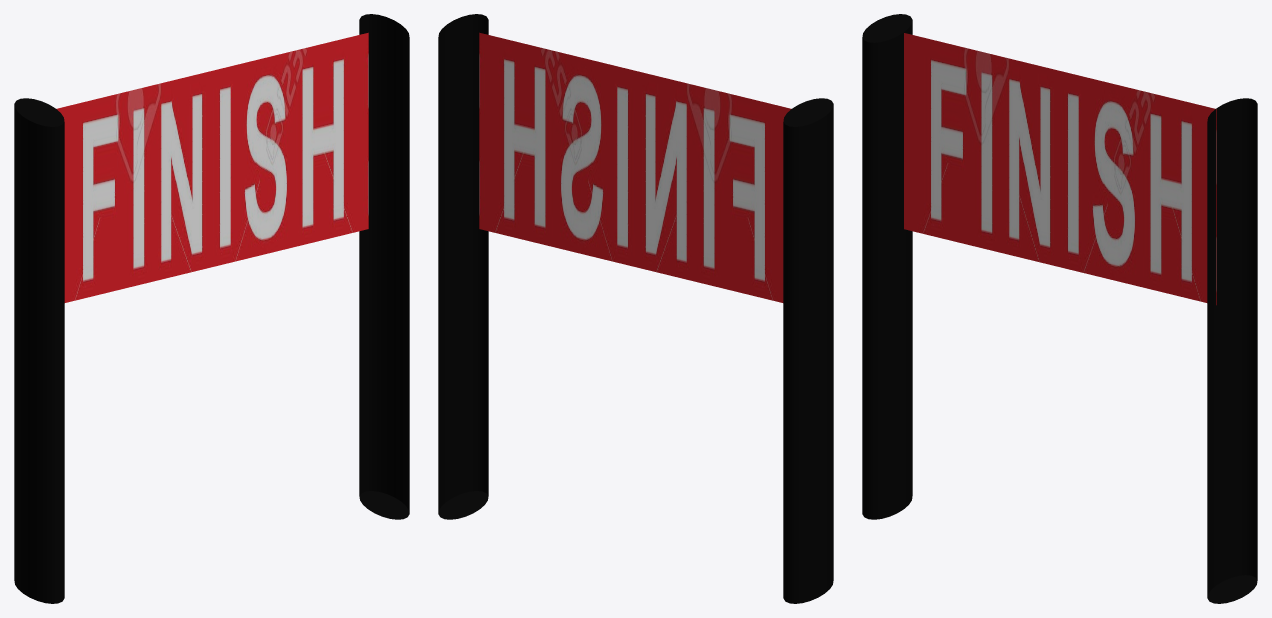
File: finish.fbx
3 views of the same model, side by side, from view 1: azimuth 30°, elevation 25°; view 2: azimuth 150°, elevation 25°; view 3: azimuth 330°, elevation 25° (orthographic).
Parts seen in each view (by area): view 1: pasted__pPlane1, pasted__pCylinder1, pasted__pasted__pCylinder1; view 2: pasted__pPlane1, pasted__pCylinder1, pasted__pasted__pCylinder1; view 3: pasted__pPlane1, pasted__pasted__pCylinder1, pasted__pCylinder1.
Part boxes in pixels (x1,y1,x2,y2): pasted__pPlane1: [56, 32, 368, 302]; pasted__pCylinder1: [14, 98, 64, 603]; pasted__pasted__pCylinder1: [359, 14, 409, 519]; pasted__pPlane1: [479, 32, 791, 302]; pasted__pCylinder1: [783, 98, 833, 603]; pasted__pasted__pCylinder1: [438, 14, 488, 519]; pasted__pPlane1: [904, 33, 1216, 305]; pasted__pasted__pCylinder1: [1207, 98, 1257, 603]; pasted__pCylinder1: [862, 14, 912, 519].
Size of the model in its own units: 11.49 by 13.86 by 2.
Materials: 3 (1 with a texture image).
